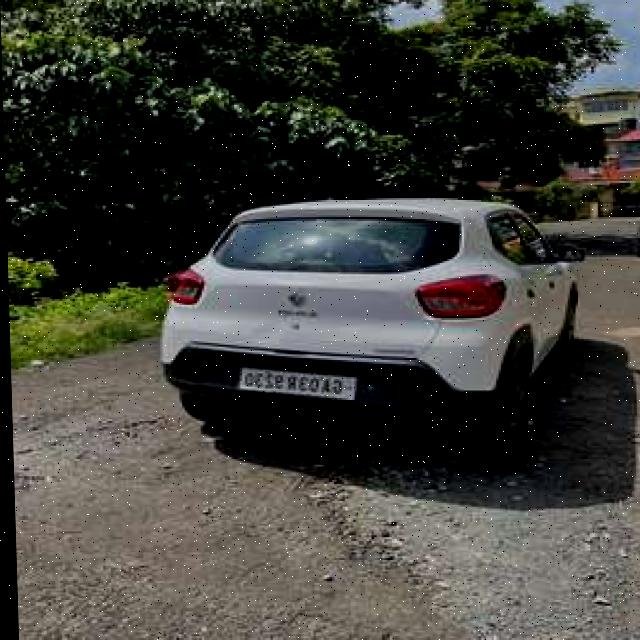plate: (235, 366, 354, 402)
